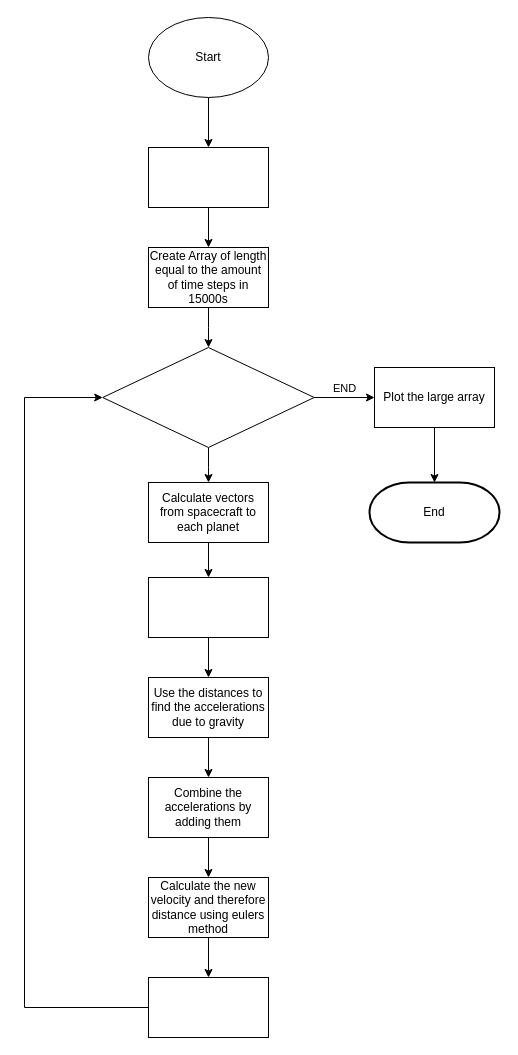
Some shapes in this 518 by 1055 pixel diagram are drawn without their labels. Here are the shapes that lost their labels. From the top down, the box of each, then its label:
(148, 146, 268, 208): Define Constants and Variables
(102, 346, 314, 448): Loop for N times, where N is the number of time steps
(148, 576, 268, 638): Take the modulus of these two vectors
(148, 976, 268, 1038): Store data in the large array under the relevant time step
